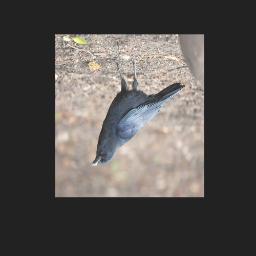Crow: (90, 57, 185, 167)
